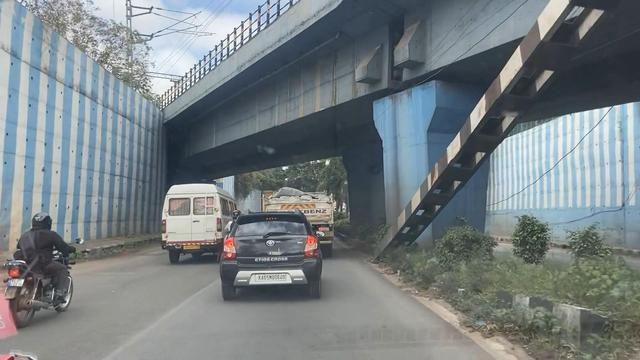HMV: (162, 186, 232, 266)
LMV: (0, 214, 92, 330), (219, 207, 322, 301)
